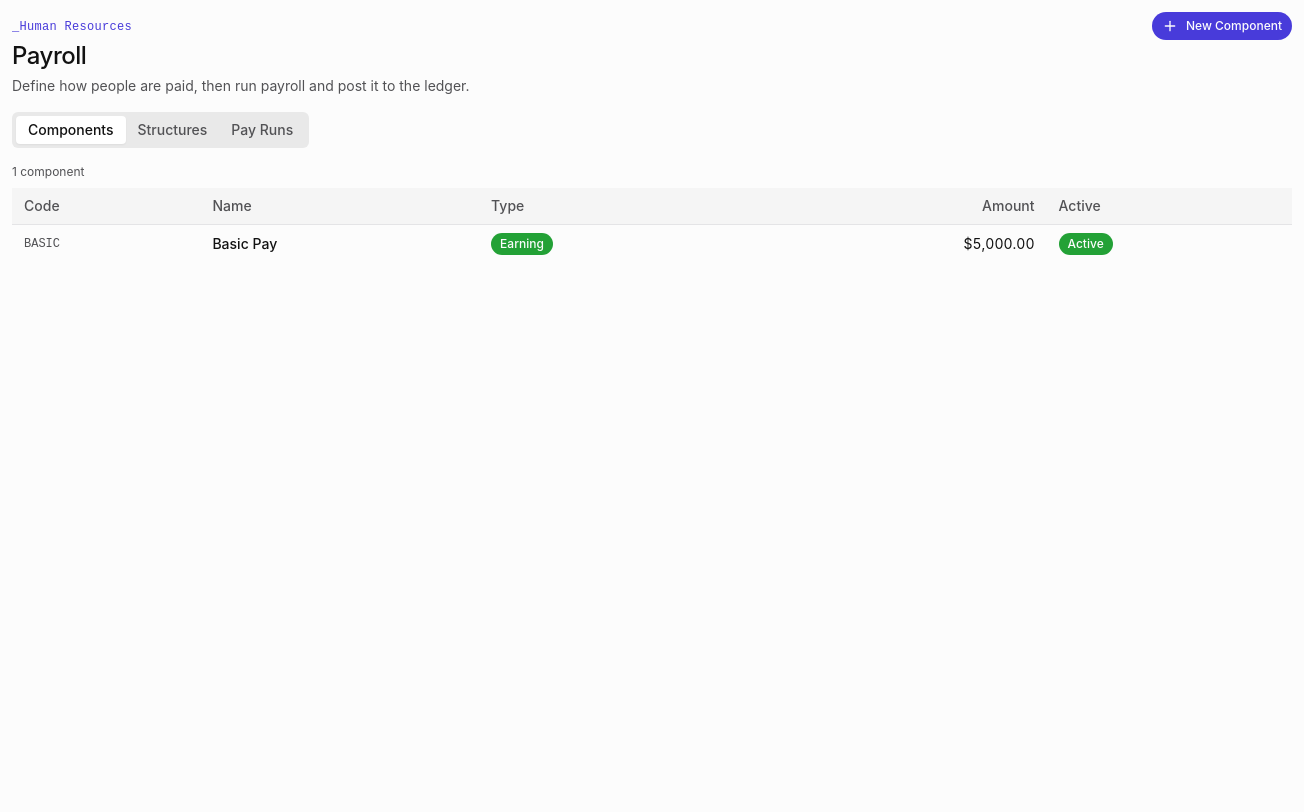
Test: PayrollPage › loads the run's payslips via the dedicated endpoint when expanded
Step 1. Click the tab "Pay Runs" → (262, 130), box 219,116 -> 305,144
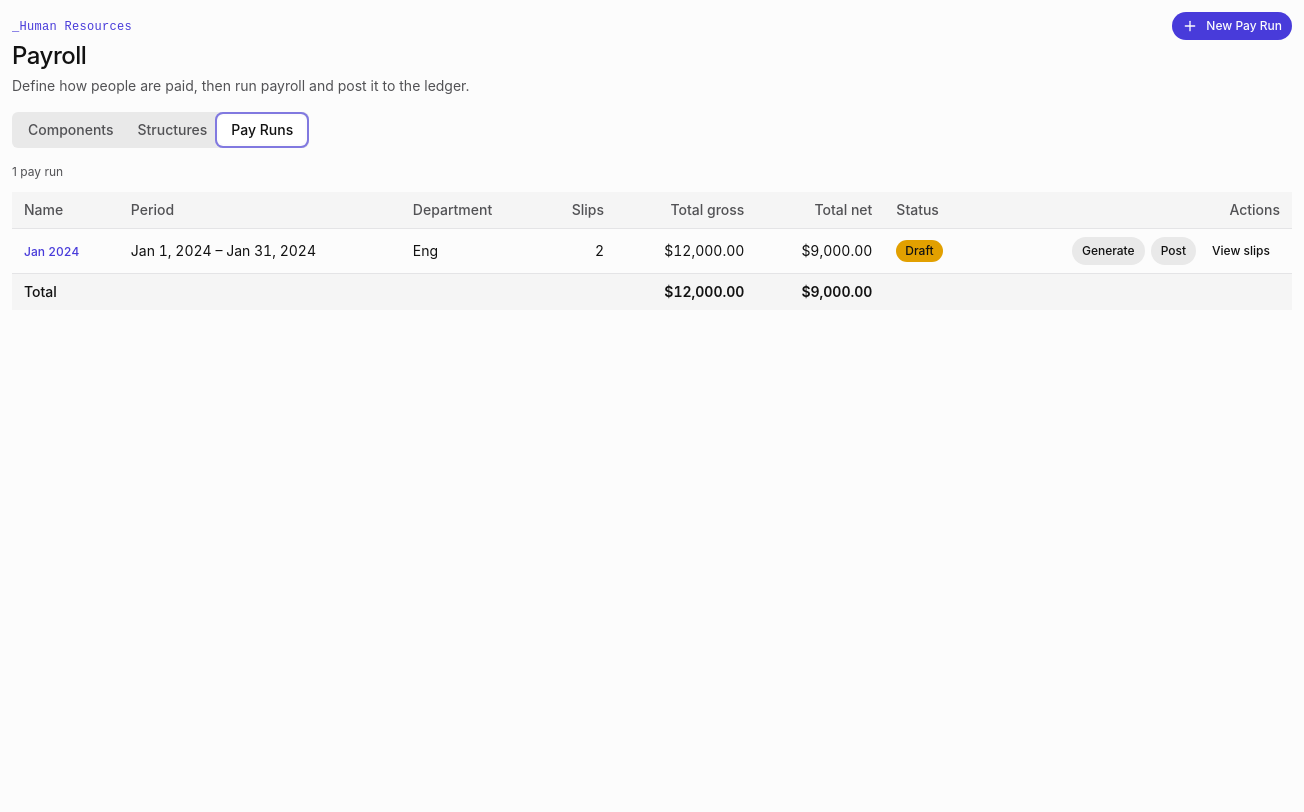
Now the button "Jan 2024" is shown, box 24,244 -> 79,260
Step 2. Click the button "View slips" → (1241, 250), box 1202,236 -> 1280,264
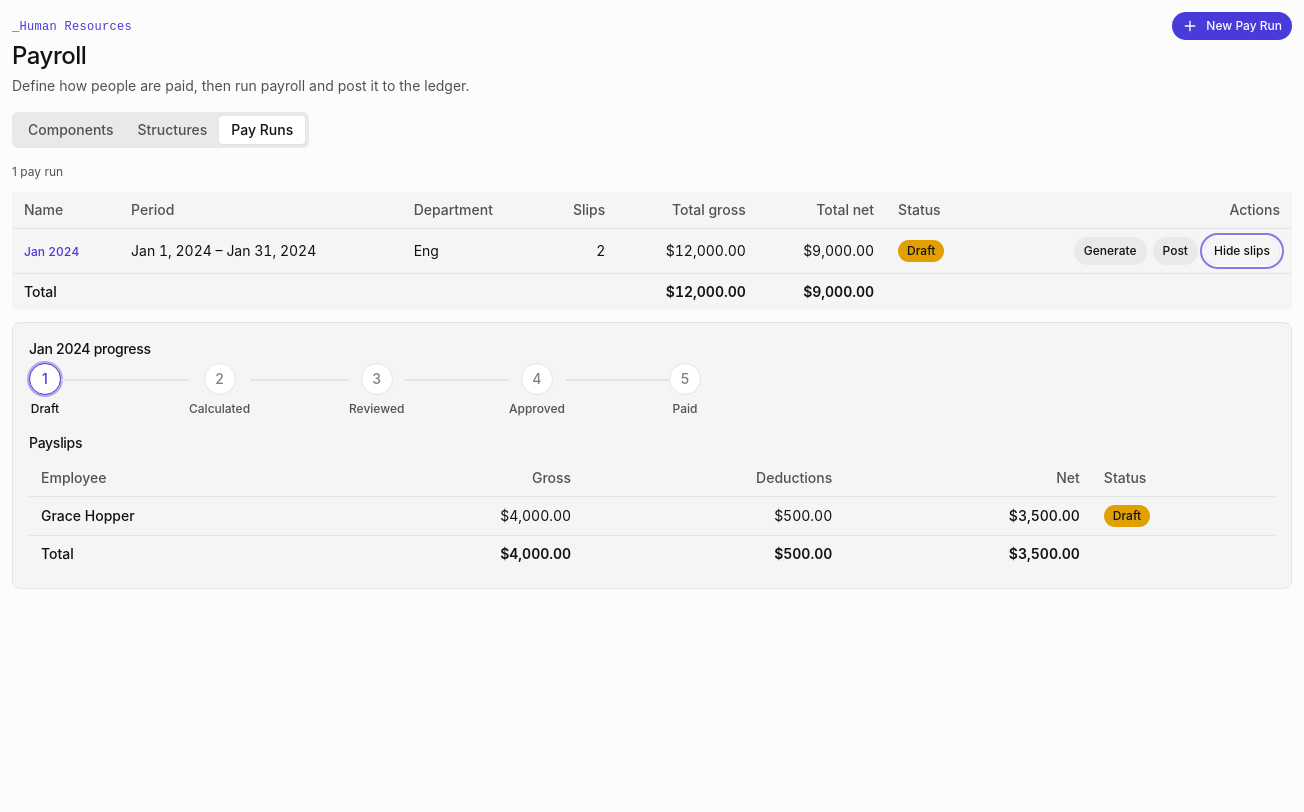
Now the text "Grace Hopper" is shown, box 29,496 -> 336,536
Note: Toggling again hides the panel.
Step 3. Click the button "Hide slips" → (1242, 250), box 1204,236 -> 1280,264
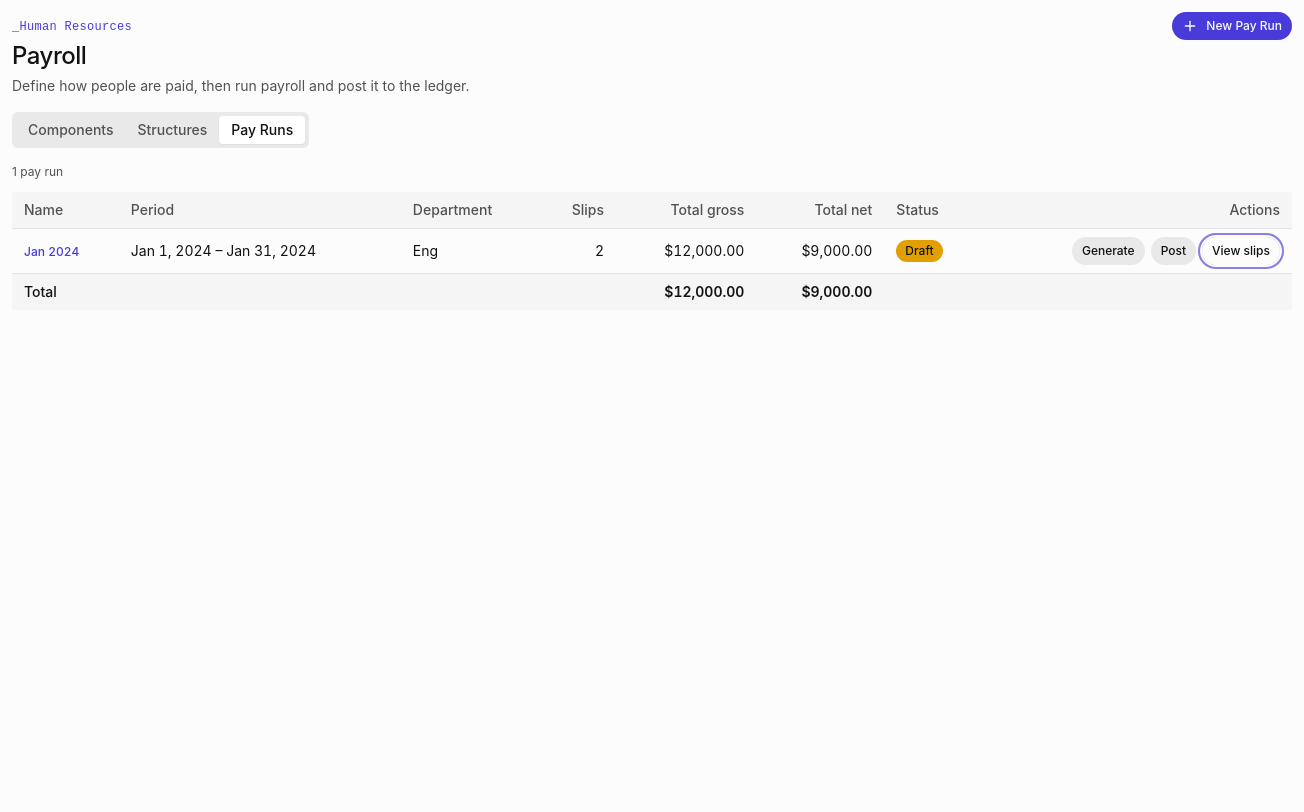
Now the heading "Payslips" is gone
